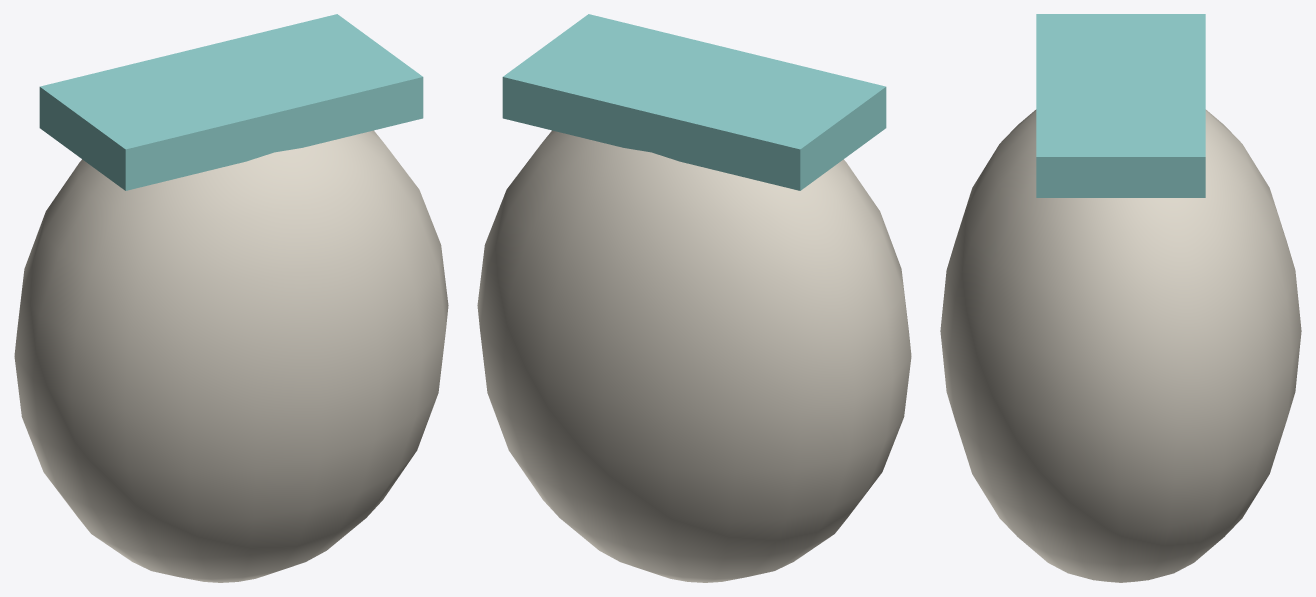
File: seed-pouch.glb
The picture shows the model from 3 angles, left to right: view 1: azimuth 30°, elevation 25°; view 2: azimuth 150°, elevation 25°; view 3: azimuth 270°, elevation 25°; orthographic projection.
Parts seen in each view (by area): view 1: bag, seal; view 2: bag, seal; view 3: bag, seal.
Part boxes in pixels (box(x1,y1,x2,y2)): bag: box(14, 130, 448, 582); seal: box(39, 14, 423, 190); bag: box(477, 130, 911, 582); seal: box(502, 14, 886, 190); bag: box(940, 109, 1301, 582); seal: box(1036, 14, 1205, 197).
Bounding box in the file's own units: 0.4 × 0.47 × 0.32.
